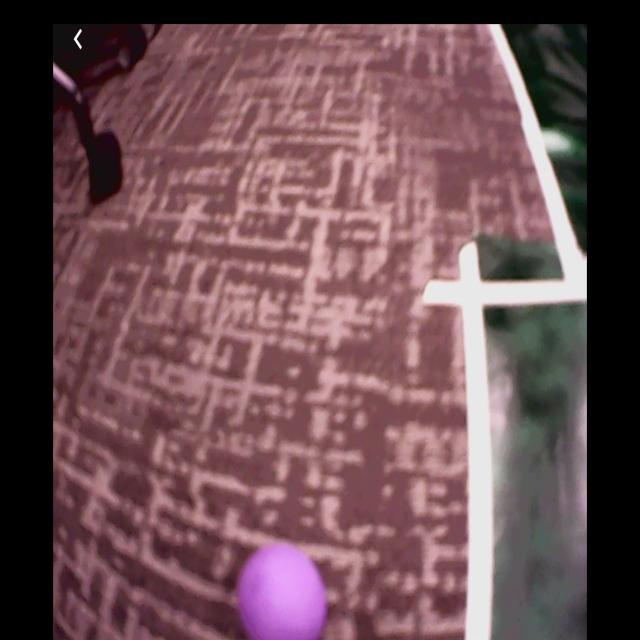ball: (238, 541, 330, 640)
